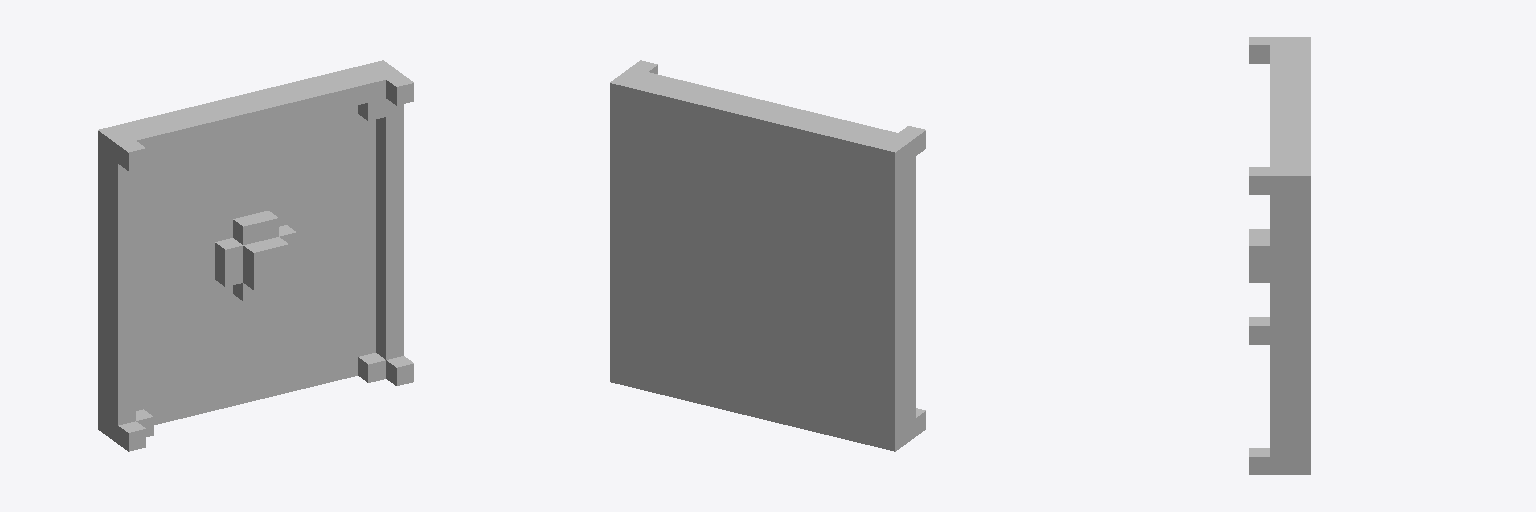
The model's file is Static Objects-7.obj.
The picture shows the model from 3 angles: view 1: azimuth 30°, elevation 25°; view 2: azimuth 150°, elevation 25°; view 3: azimuth 270°, elevation 25°; orthographic projection.
Visible parts, largest first — view 1: object 1; view 2: object 1; view 3: object 1.
Boxes of the visible parts, box(x1,y1,x2,y2) form: object 1: box(98, 60, 413, 451); object 1: box(610, 60, 925, 451); object 1: box(1249, 37, 1310, 474).
Bounding box in the file's own units: 1.6 × 1.6 × 0.3.